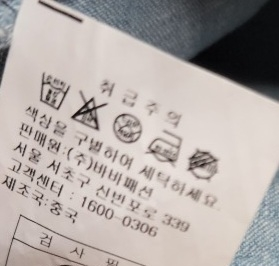KR_dry_clean_petroleum: (109, 106, 145, 146)
KR_hand_wash_30_neutral: (40, 71, 70, 110)
KR_hang_dry_in_shade: (188, 148, 220, 183)
